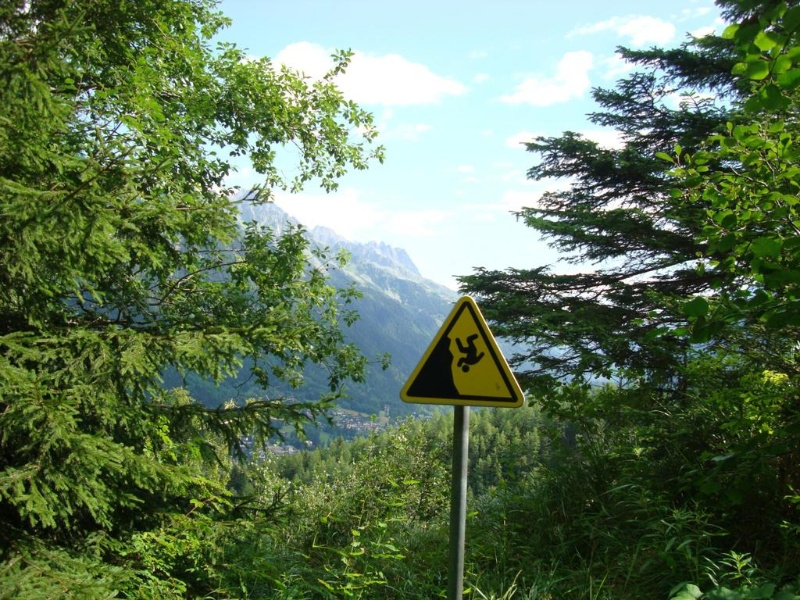cliff_edge: (387, 293, 533, 412)
